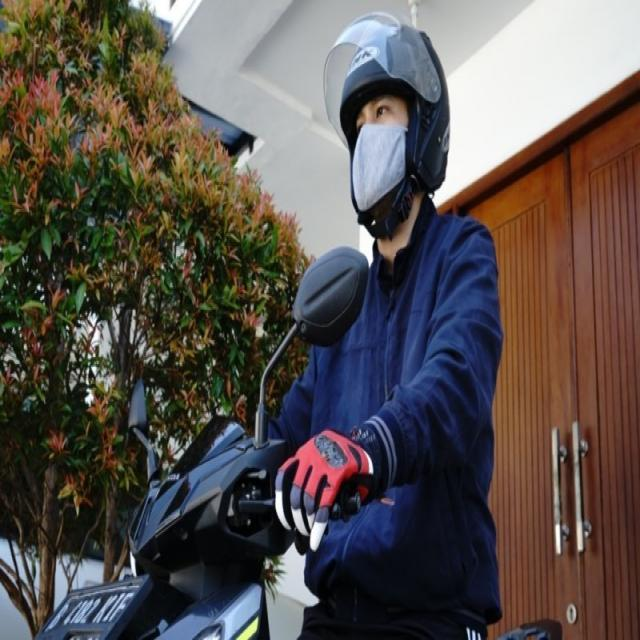Helm: (320, 9, 450, 234)
